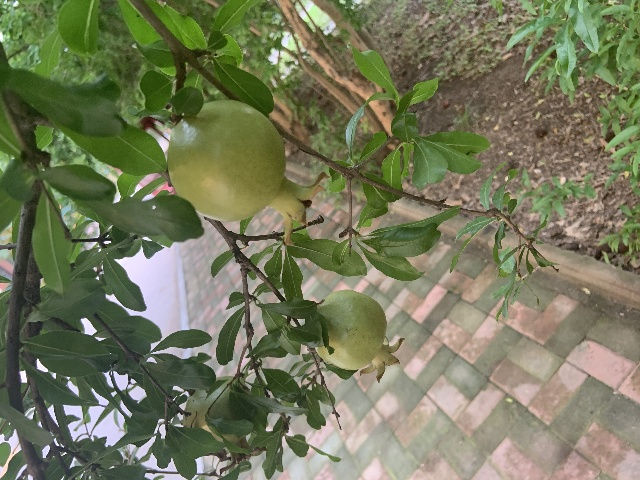mid-growth: (166, 99, 330, 245), (315, 289, 406, 384), (183, 375, 268, 475)
